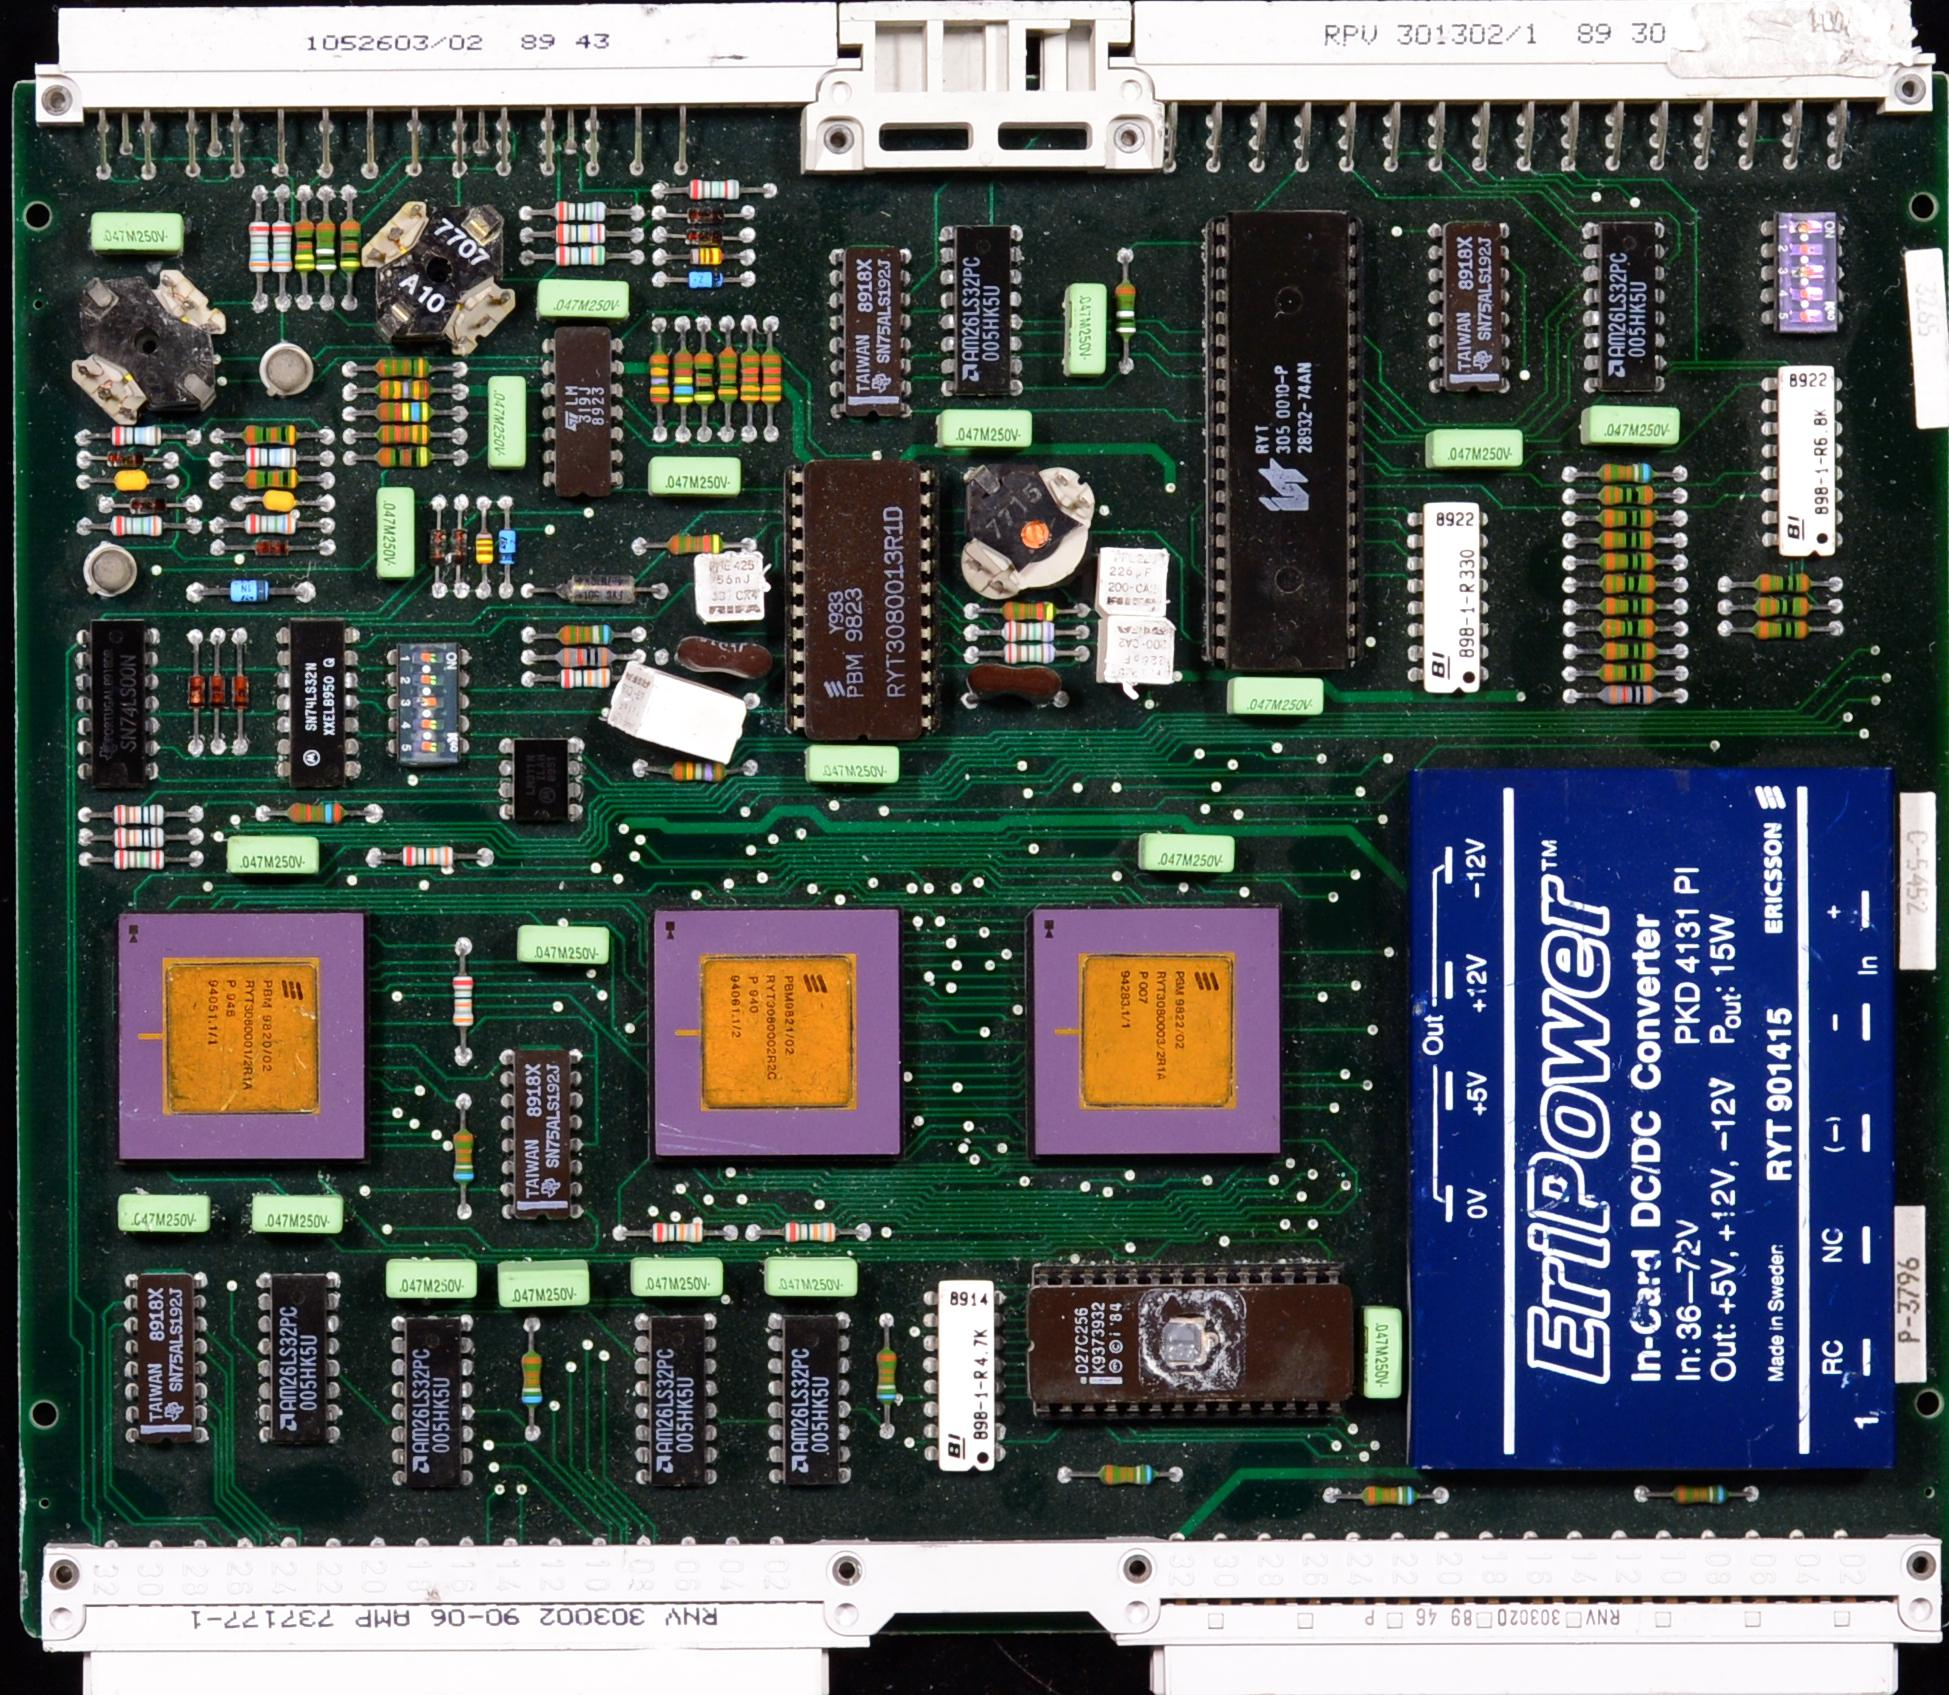Capacitor Jumper: (73, 467, 182, 492), (220, 494, 338, 514)
Connector: (1407, 499, 1493, 703), (1767, 361, 1841, 560)
IC: (1202, 215, 1371, 676), (1026, 1261, 1359, 1418), (781, 457, 933, 744), (1566, 207, 1681, 421), (262, 615, 373, 785), (1427, 214, 1526, 393), (68, 615, 157, 797), (124, 1269, 212, 1450), (252, 1268, 338, 1450), (827, 249, 918, 416), (499, 1045, 583, 1223), (389, 1316, 471, 1490), (941, 224, 1019, 404), (635, 1316, 716, 1486), (769, 1316, 850, 1486), (491, 734, 578, 820)
Resistor Jumper: (255, 795, 383, 827), (73, 423, 202, 451), (631, 759, 759, 785), (961, 596, 1095, 621), (961, 620, 1092, 645), (242, 196, 270, 307), (346, 356, 469, 381), (212, 426, 335, 451), (1565, 482, 1685, 507), (739, 315, 762, 444), (714, 316, 738, 446), (1717, 618, 1846, 641), (1117, 242, 1139, 376), (345, 447, 469, 471), (1566, 529, 1690, 552), (1717, 572, 1841, 595), (958, 645, 1089, 666), (317, 191, 338, 318), (519, 202, 645, 224), (630, 532, 756, 553), (613, 1221, 738, 1243), (76, 805, 201, 827), (202, 471, 336, 490), (519, 225, 641, 247), (650, 316, 671, 439), (524, 1317, 544, 1450), (454, 1092, 474, 1223), (207, 514, 336, 534), (1561, 620, 1690, 640), (78, 848, 206, 868), (454, 939, 474, 1065), (520, 249, 646, 268), (368, 847, 494, 867), (1563, 664, 1687, 684), (348, 424, 462, 446), (340, 192, 360, 315), (1563, 462, 1685, 482), (81, 517, 204, 537), (1566, 575, 1689, 595), (764, 313, 782, 446), (273, 191, 295, 302), (1561, 643, 1690, 661), (348, 404, 476, 423), (209, 451, 336, 469), (1563, 510, 1690, 529), (1719, 598, 1846, 616), (346, 381, 467, 399), (653, 181, 772, 199), (675, 316, 691, 447), (1563, 555, 1694, 572), (522, 648, 653, 664), (880, 1311, 897, 1440), (76, 828, 206, 845), (696, 320, 713, 447), (522, 626, 638, 645), (658, 268, 756, 290), (476, 497, 496, 598), (1566, 688, 1685, 704), (1336, 1486, 1450, 1503), (497, 495, 515, 598), (1565, 600, 1687, 615), (1061, 1465, 1180, 1480), (749, 1224, 867, 1239), (300, 194, 313, 318), (524, 669, 643, 683), (658, 250, 756, 263)
